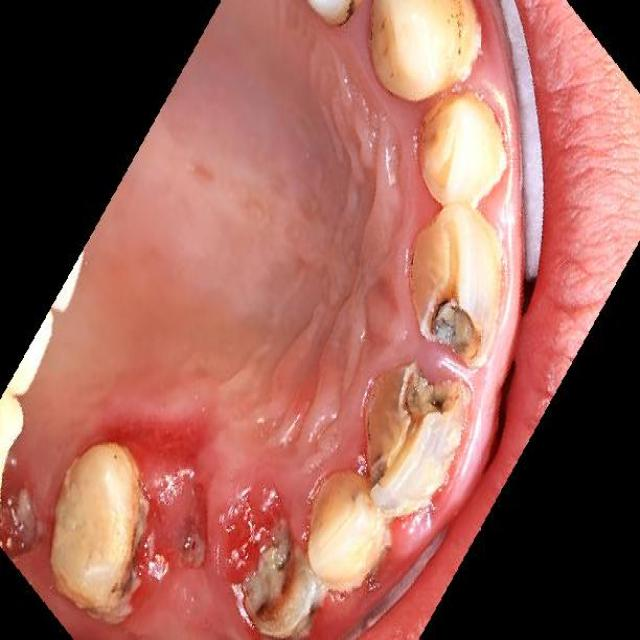caries: (364, 368, 462, 482), (428, 289, 490, 370), (254, 542, 307, 632), (0, 466, 41, 562)
